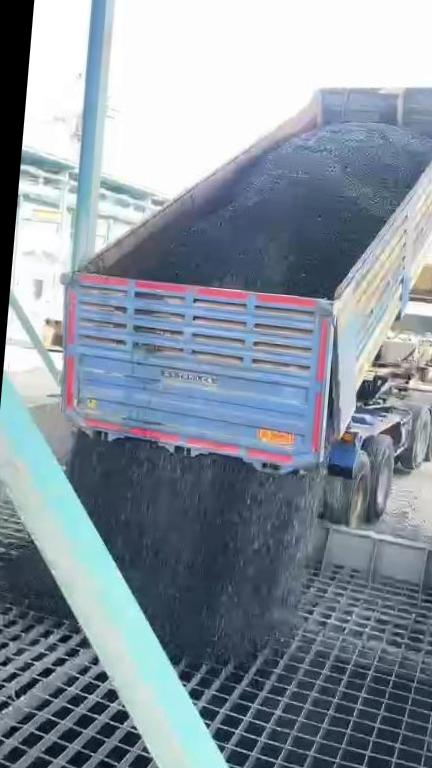gravel: (67, 434, 321, 660), (129, 124, 432, 297), (5, 548, 70, 616)
